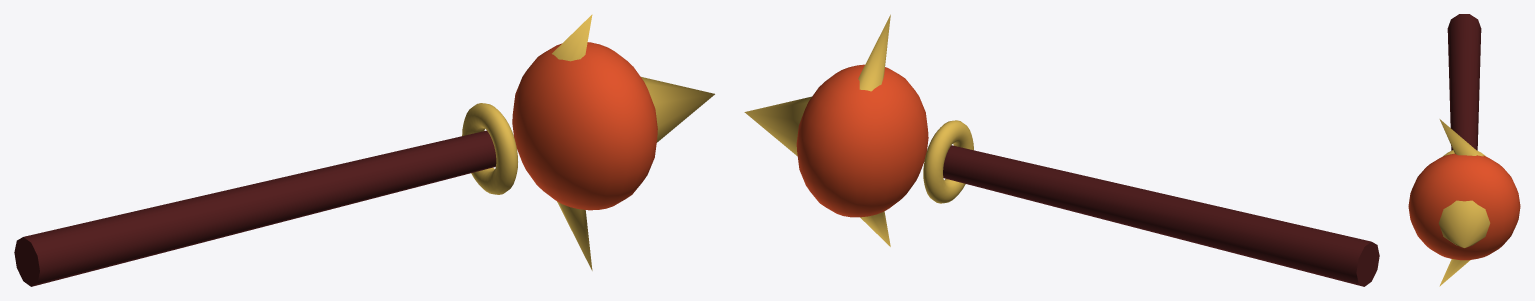
File: wpn_wyrmfire.glb
3 renders of one model, left to right at view 1: azimuth 30°, elevation 25°; view 2: azimuth 150°, elevation 25°; view 3: azimuth 270°, elevation 25°, orthographic. The views are drawn at different scales.
Visible parts, largest first — view 1: object 1, cone.001, cone; view 2: object 1, cone.001, cone; view 3: object 1, cone.001, cone.
Part boxes in pixels (bbox=[...]): object 1: bbox=[14, 42, 714, 286]; cone.001: bbox=[552, 14, 592, 61]; cone: bbox=[557, 201, 592, 270]; object 1: bbox=[744, 64, 1379, 286]; cone.001: bbox=[858, 14, 890, 91]; cone: bbox=[860, 211, 890, 246]; object 1: bbox=[1408, 14, 1520, 260]; cone.001: bbox=[1439, 119, 1483, 156]; cone: bbox=[1439, 259, 1470, 286].
Size of the model in its own units: 1.16 by 0.415 by 0.25.
